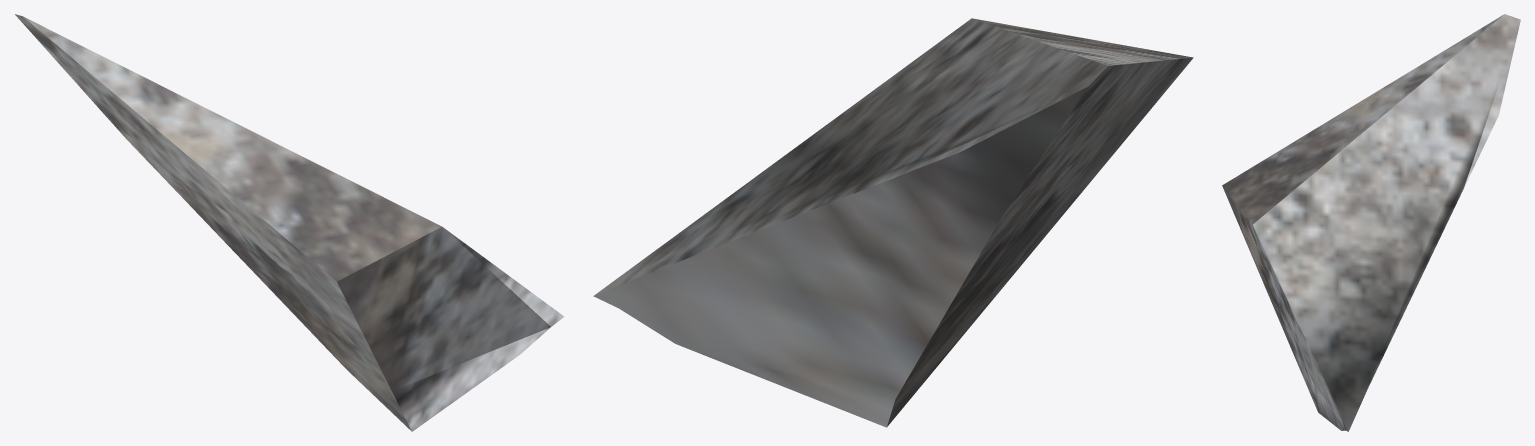
File: Asteroid_Medium_001_02_006_03_004.fbx
3 views of the same model, side by side, from view 1: azimuth 30°, elevation 25°; view 2: azimuth 150°, elevation 25°; view 3: azimuth 270°, elevation 25° (orthographic). The views are drawn at different scales.
Parts seen in each view (by area): view 1: Asteroid_Medium_001_02_006_03_004; view 2: Asteroid_Medium_001_02_006_03_004; view 3: Asteroid_Medium_001_02_006_03_004.
Part boxes in pixels (box(x1,y1,x2,y2)): Asteroid_Medium_001_02_006_03_004: box(15, 14, 564, 431); Asteroid_Medium_001_02_006_03_004: box(593, 18, 1193, 427); Asteroid_Medium_001_02_006_03_004: box(1222, 14, 1520, 431).
Size of the model in its own units: 3.56 by 3.03 by 2.74.
